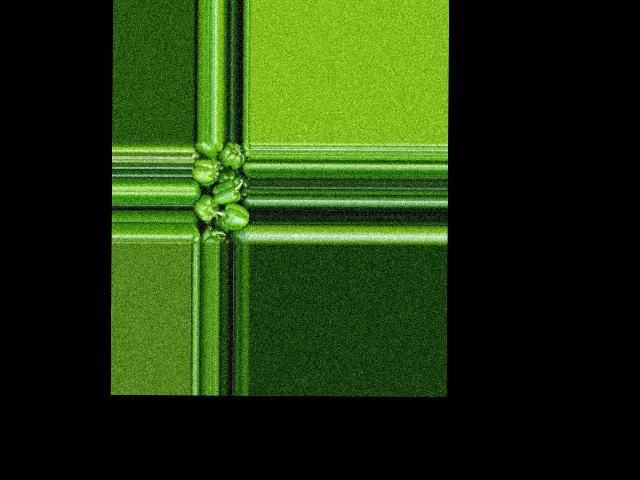bell_pepper: (230, 221, 250, 245)
